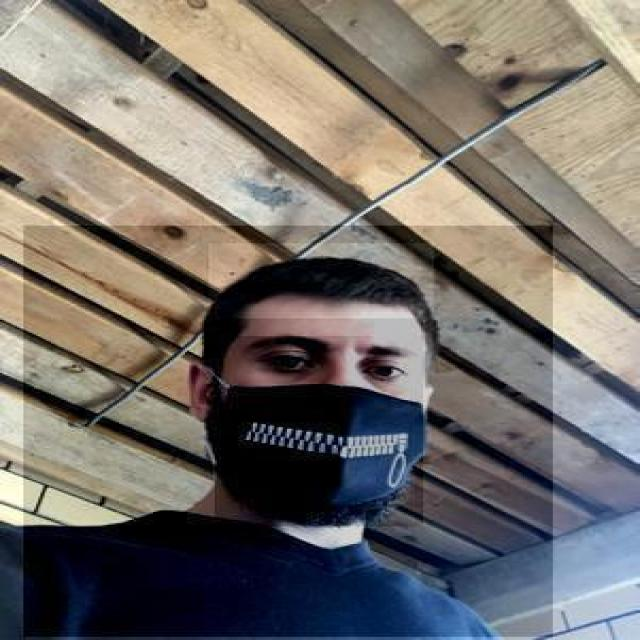face_mask: (215, 318, 423, 526)
head_nohelmet: (208, 243, 434, 336)
person: (23, 226, 555, 638)
